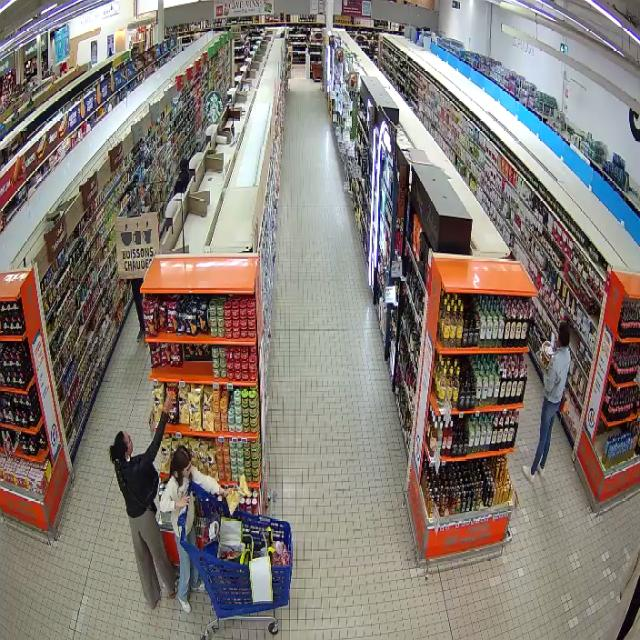article: (225, 474, 251, 516)
bags: (118, 463, 158, 514)
hands: (163, 389, 175, 413), (176, 496, 189, 510), (220, 488, 229, 496)
person: (110, 394, 176, 608), (160, 446, 228, 611), (523, 321, 570, 481)
